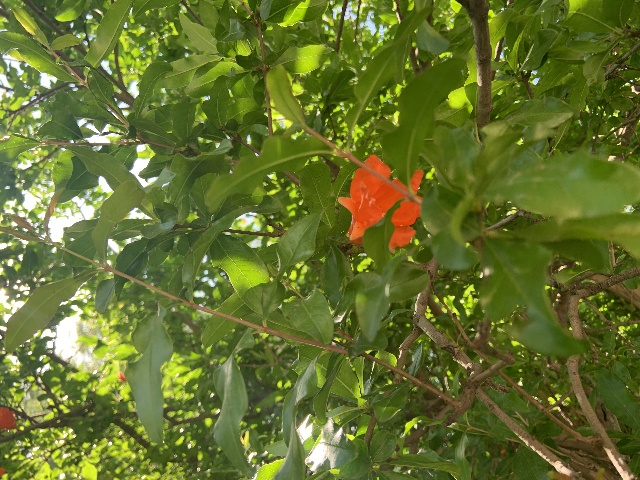flower: (337, 154, 423, 250)
